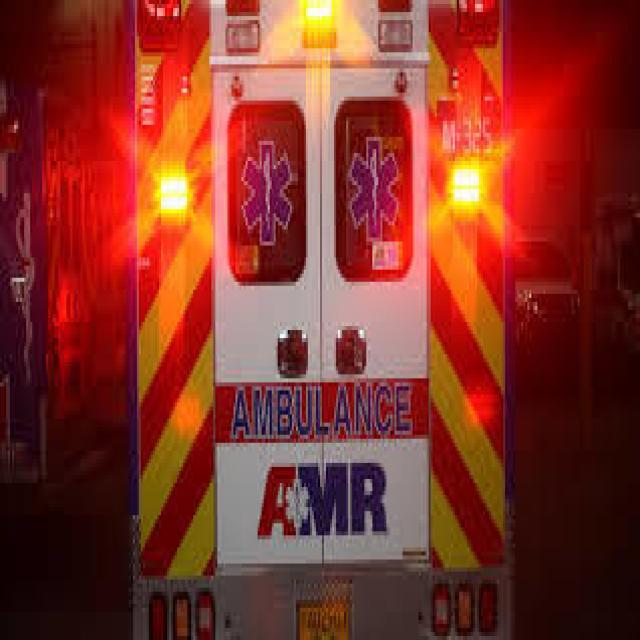ambulance: (120, 0, 534, 640)
